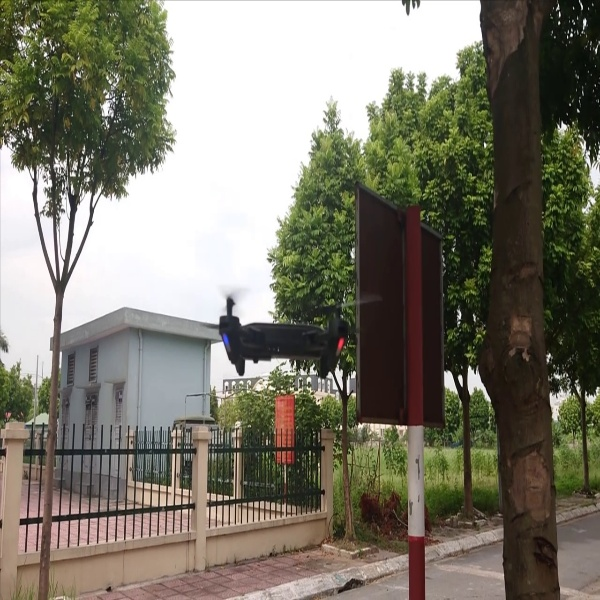drone: (212, 276, 383, 377)
